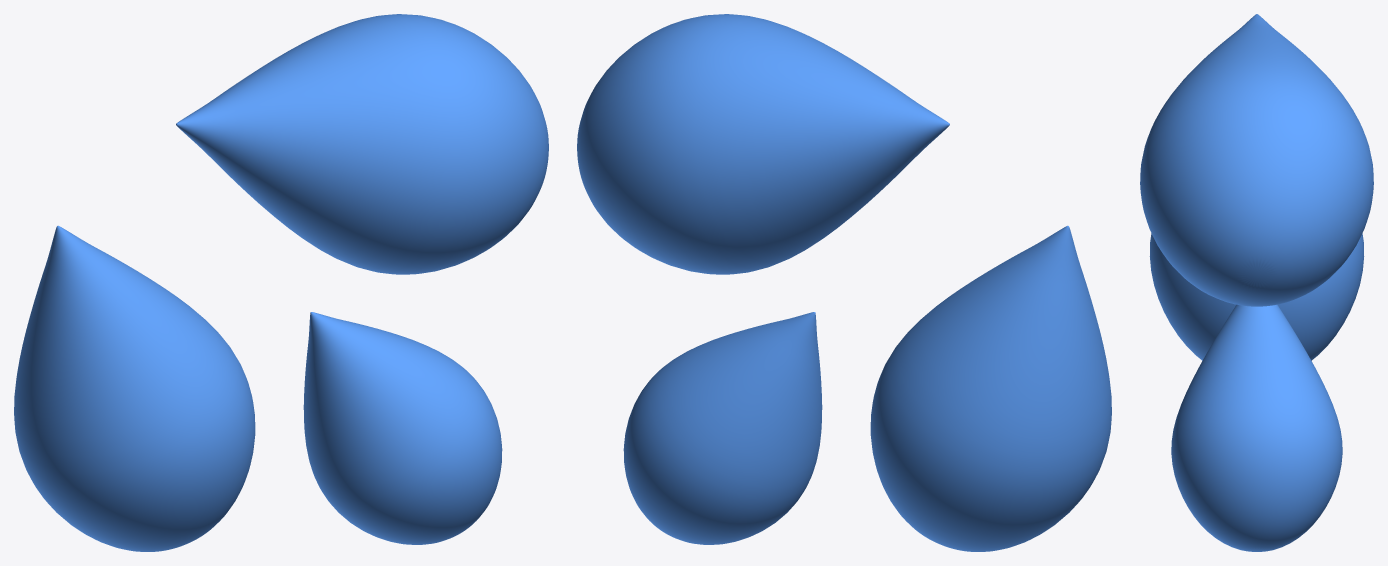
File: drop.glb
3 renders of one model, left to right at view 1: azimuth 30°, elevation 25°; view 2: azimuth 150°, elevation 25°; view 3: azimuth 270°, elevation 25°, orthographic. The views are drawn at different scales.
Parts seen in each view (by area): view 1: Water Droplet; view 2: Water Droplet; view 3: Water Droplet.
Boxes of the visible parts, box(x1,y1,x2,y2) form: Water Droplet: box(14, 14, 548, 551); Water Droplet: box(577, 14, 1111, 551); Water Droplet: box(1140, 14, 1373, 551).
Bounding box in the file's own units: 0.9558 × 0.9329 × 0.4266.
